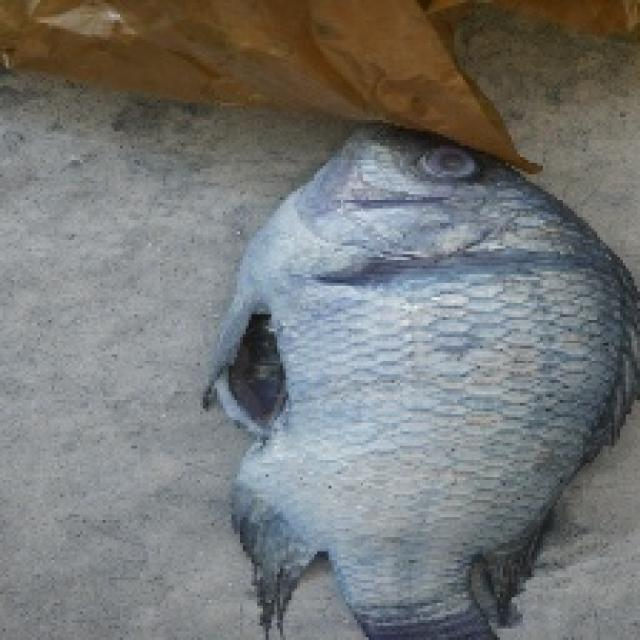Non-Fresh: (212, 105, 624, 638)
